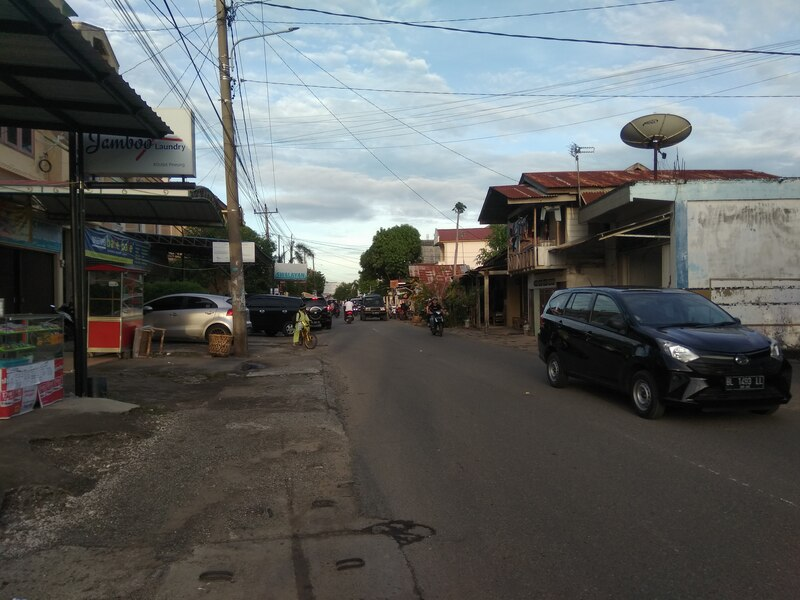bike: (294, 318, 320, 350)
car: (536, 282, 795, 426), (144, 289, 254, 351), (247, 290, 311, 339), (301, 294, 335, 335), (358, 291, 390, 324)
motorcycle: (426, 309, 444, 339), (343, 307, 354, 326)
